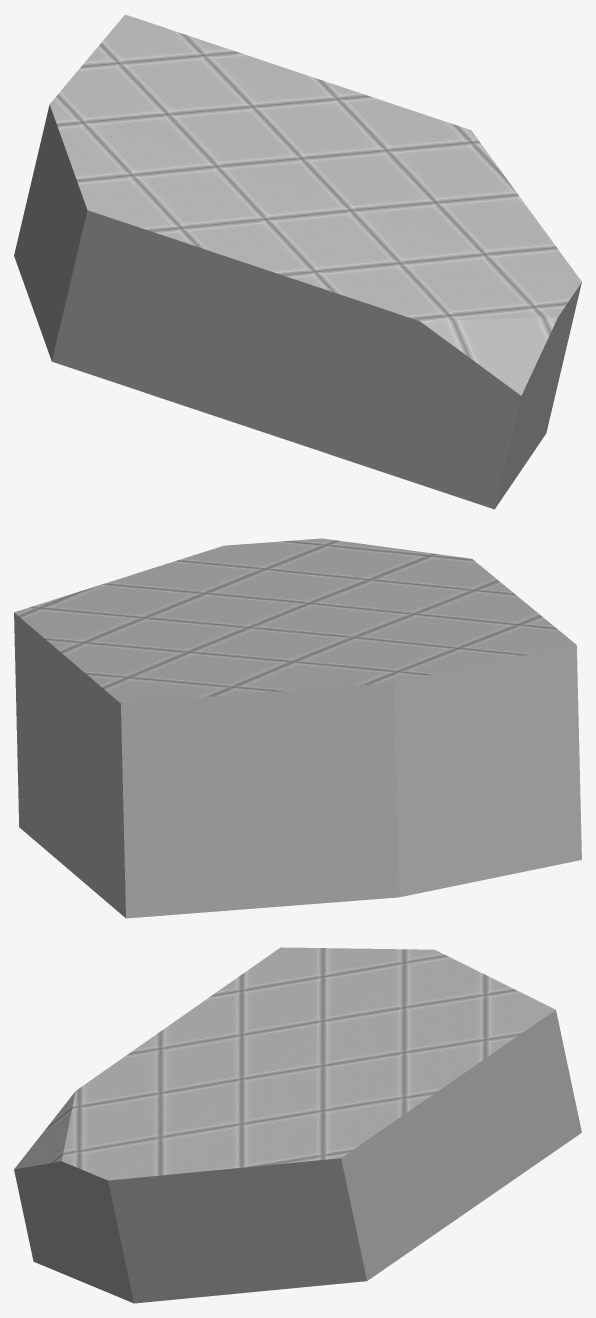
File: Floor1.fbx
3 views of the same model, one above another, from view 1: azimuth 30°, elevation 25°; view 2: azimuth 150°, elevation 25°; view 3: azimuth 270°, elevation 25° (orthographic). The views are drawn at different scales.
Visible parts, largest first — view 1: Floor1; view 2: Floor1; view 3: Floor1.
Part boxes in pixels (x1=…): Floor1: x1=14, y1=14, x2=581, y2=509; Floor1: x1=14, y1=538, x2=581, y2=918; Floor1: x1=14, y1=947, x2=581, y2=1303.
Size of the model in its own units: 354 by 214 by 478.
